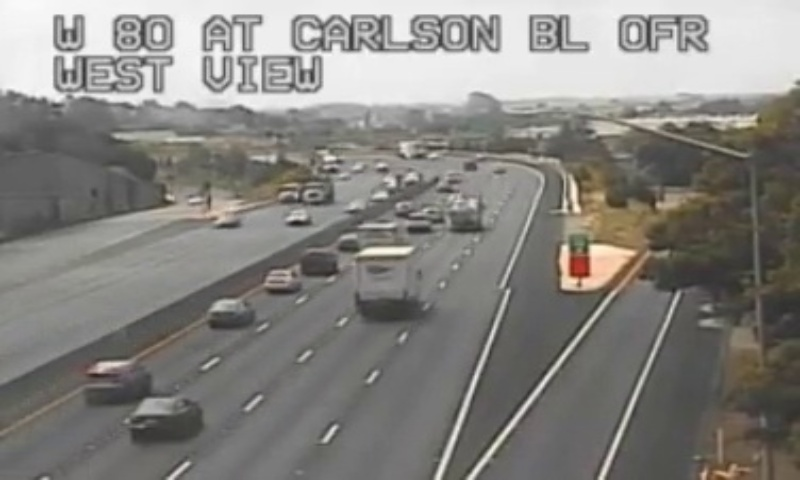car: (85, 359, 151, 404), (128, 397, 199, 435), (210, 299, 250, 326), (300, 247, 336, 276), (263, 268, 300, 292)
small-truck: (355, 245, 419, 312)
